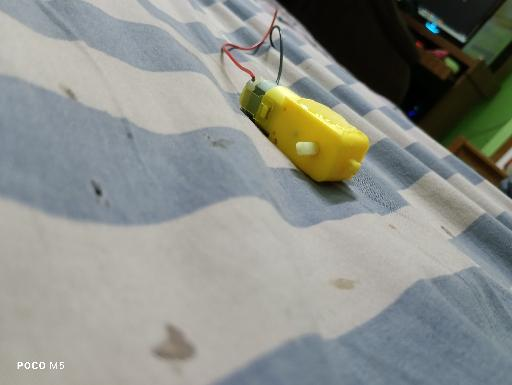Motor: (239, 76, 370, 184)
